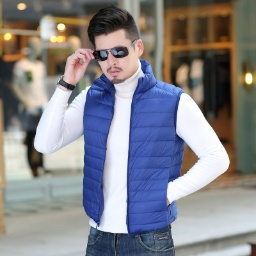face: (88, 6, 146, 83)
